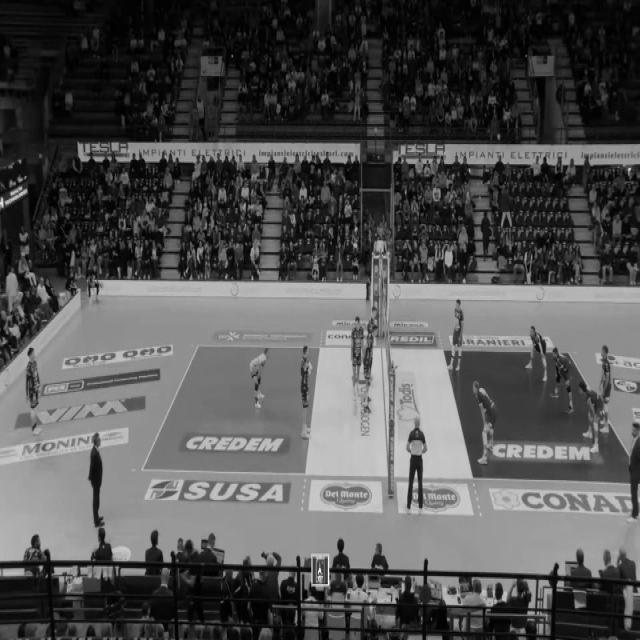volleyball court: (145, 341, 639, 488)
